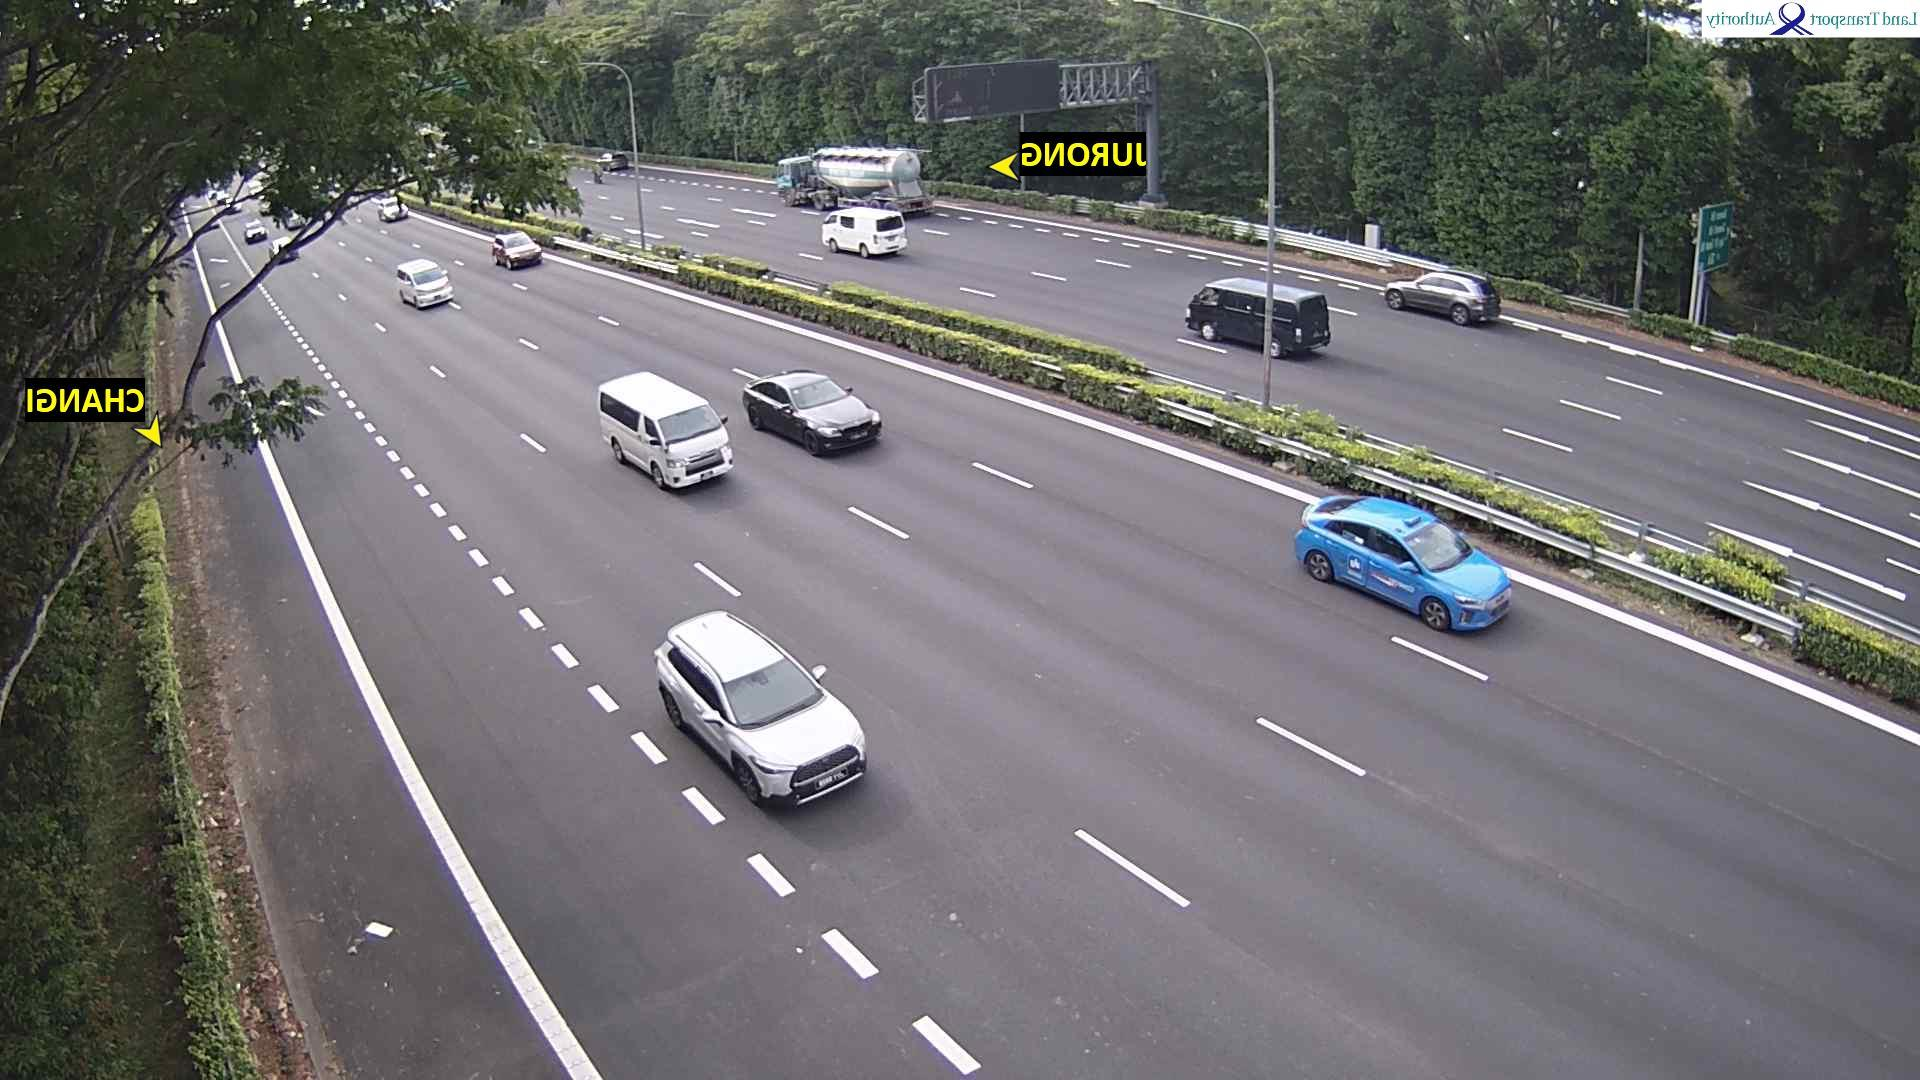incoming: (696, 647, 878, 816), (1391, 509, 1520, 636), (640, 397, 738, 493), (775, 369, 884, 454), (404, 264, 458, 313), (497, 232, 545, 270), (241, 219, 270, 244)
